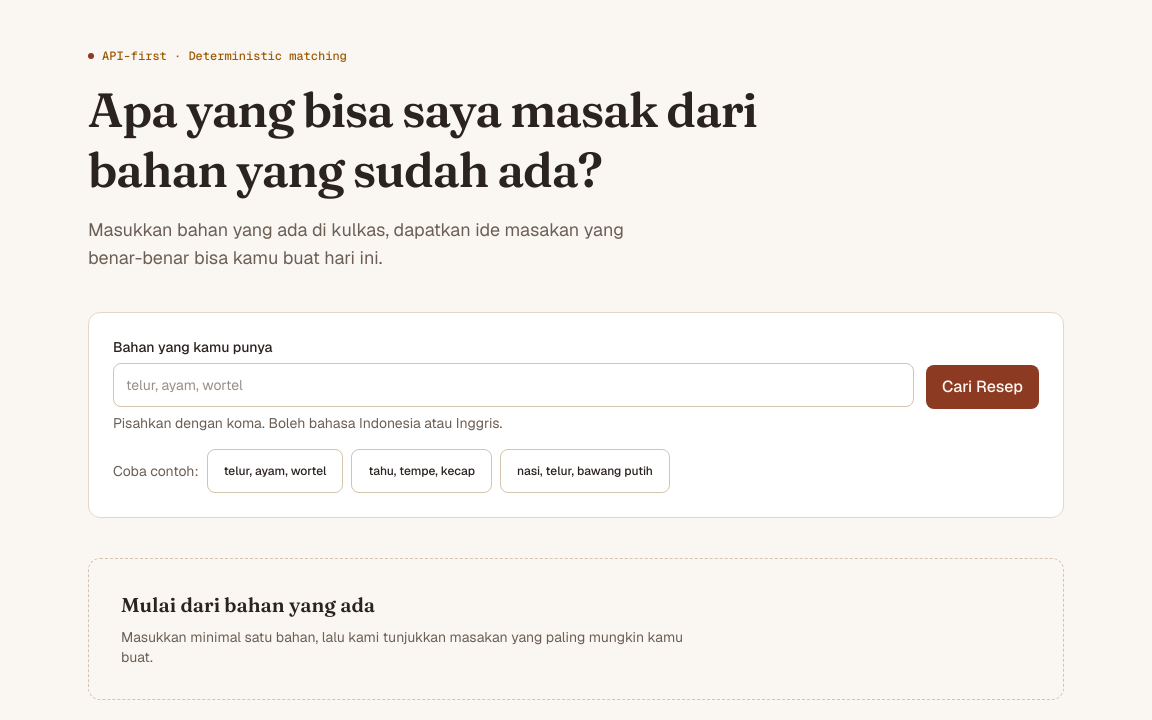
it: Halaman utama › bahan tak dikenali tampil sebagai chip unknown
Type "telur, kangkung" into the field labelled "Bahan yang kamu punya" at (513, 385), box [113,363,914,407]
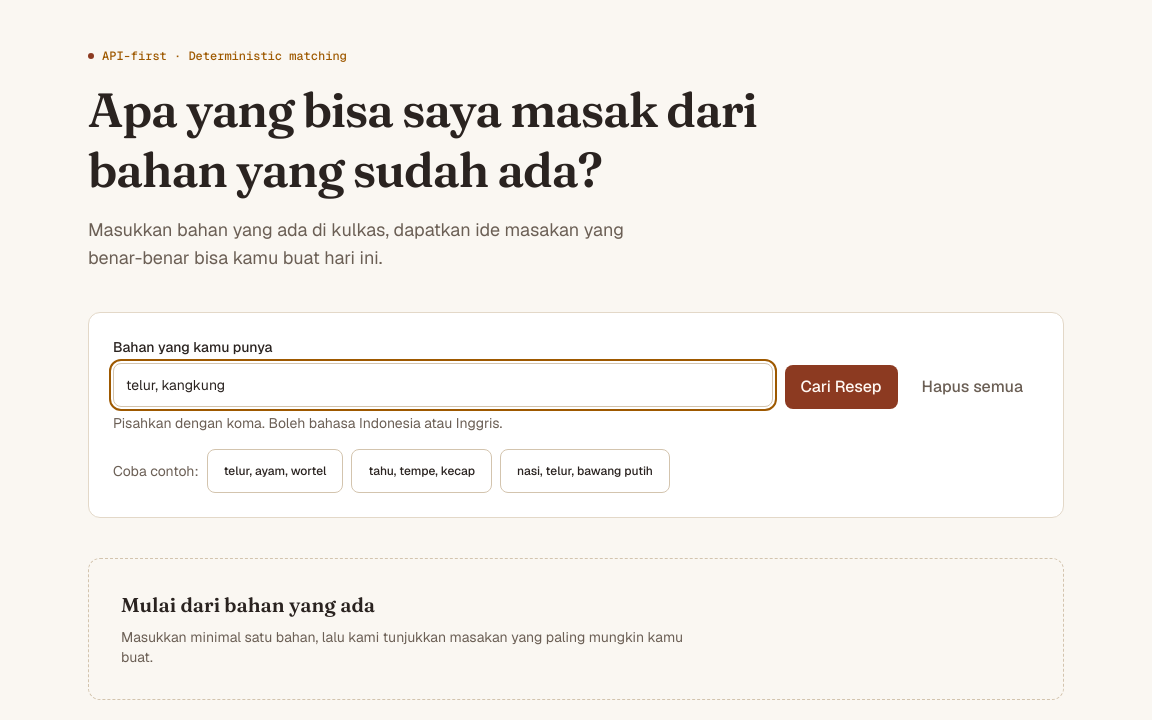
Click the button "Cari Resep" at (841, 387), box [784,365,898,409]
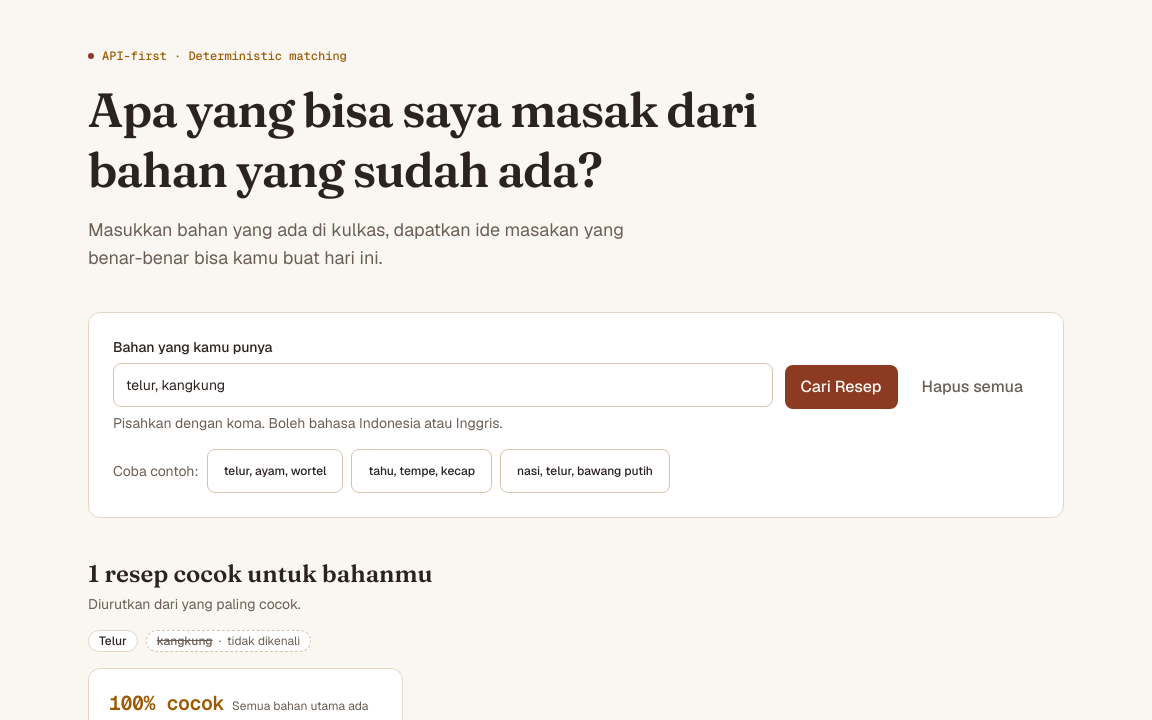
Result: the element named "Bahan yang dicari" shows "kangkung" at [157,633,213,649]
Result: the element named "Bahan yang dicari" shows "tidak dikenali" at [227,633,300,649]
